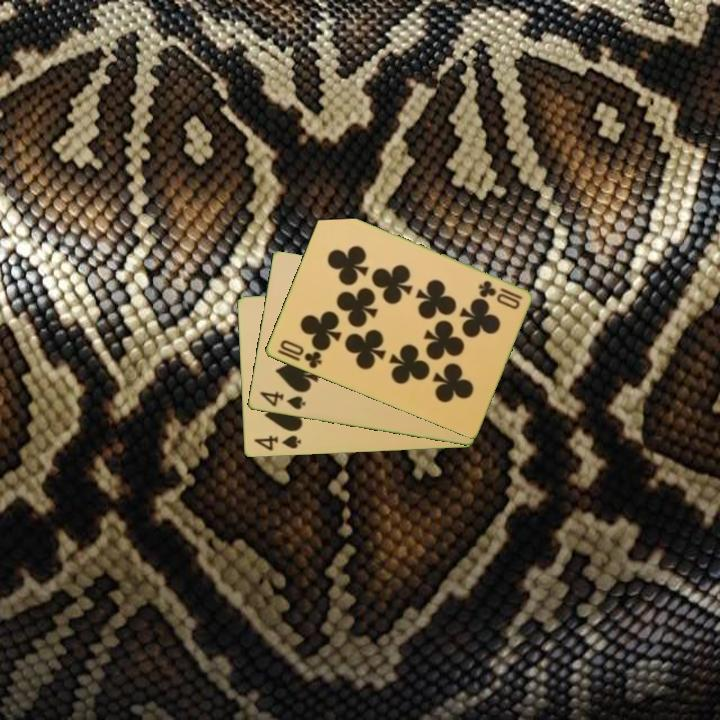10c: (274, 336, 324, 372), (474, 277, 525, 303)
4s: (256, 388, 308, 413), (250, 432, 303, 454)
